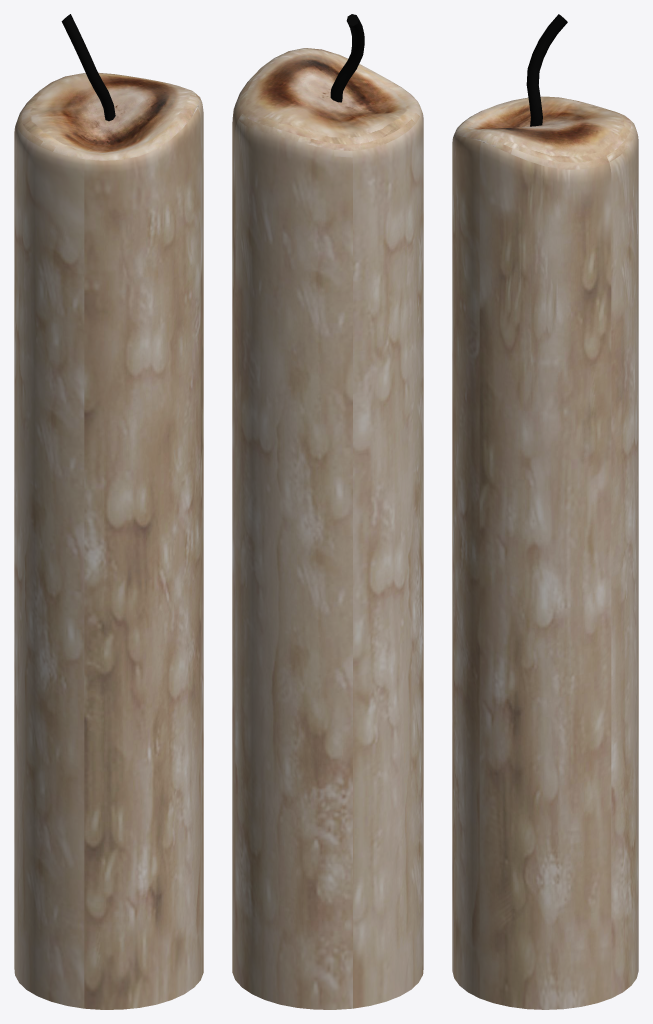
The model's file is Simple candle5.fbx.
The picture shows the model from 3 angles, left to right: view 1: azimuth 30°, elevation 25°; view 2: azimuth 150°, elevation 25°; view 3: azimuth 270°, elevation 25°; orthographic projection. The views are drawn at different scales.
Visible parts, largest first — view 1: Simple candle 5; view 2: Simple candle 5; view 3: Simple candle 5.
Part boxes in pixels (<box>): Simple candle 5: <box>14,14,203,1009</box>; Simple candle 5: <box>232,14,423,1009</box>; Simple candle 5: <box>452,14,638,1009</box>.
Bounding box in the file's own units: 7.14 × 39.73 × 7.14.
1 material, 1 textured.
